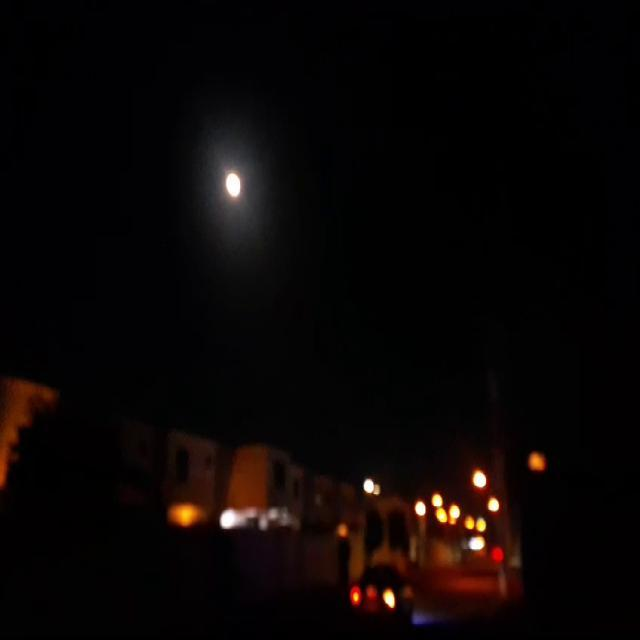moon: (222, 173, 242, 207)
